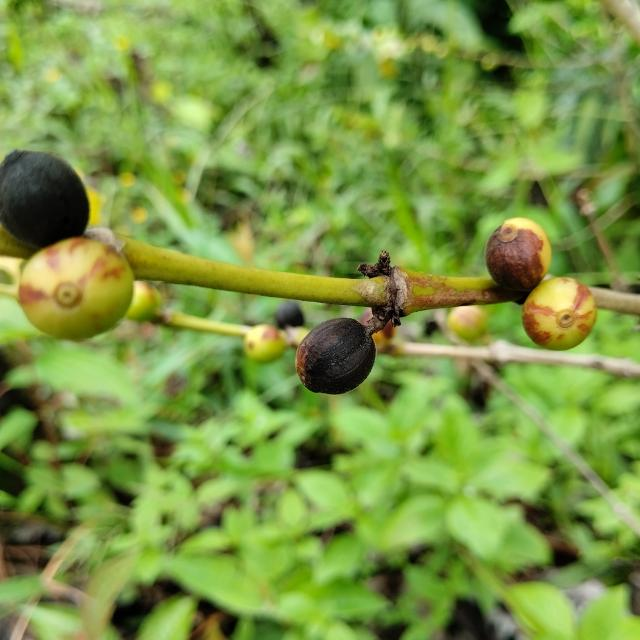Overripe: (17, 237, 134, 340), (0, 149, 89, 248), (295, 318, 376, 395), (523, 277, 598, 350), (486, 217, 553, 291)
